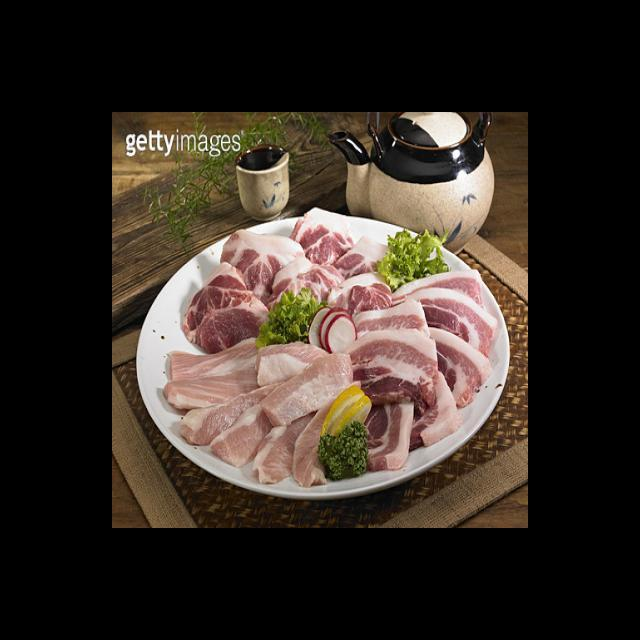pork: (168, 218, 502, 484)
